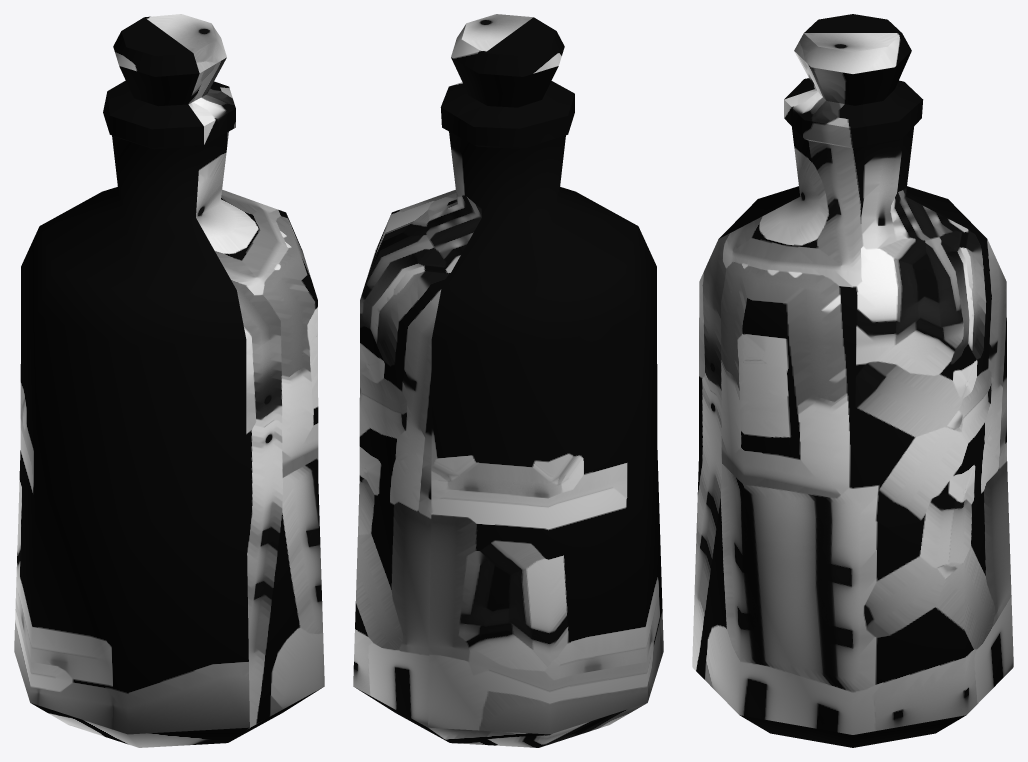
The model's file is Bottle3_V2.fbx.
The picture shows the model from 3 angles, left to right: view 1: azimuth 30°, elevation 25°; view 2: azimuth 150°, elevation 25°; view 3: azimuth 270°, elevation 25°; orthographic projection.
Visible parts, largest first — view 1: Bottle3_V2; view 2: Bottle3_V2; view 3: Bottle3_V2.
Part boxes in pixels (x1,y1,x2,y2): Bottle3_V2: (14, 14, 324, 747); Bottle3_V2: (353, 14, 663, 747); Bottle3_V2: (692, 14, 1013, 747).
Size of the model in its own units: 369 by 844 by 369.
